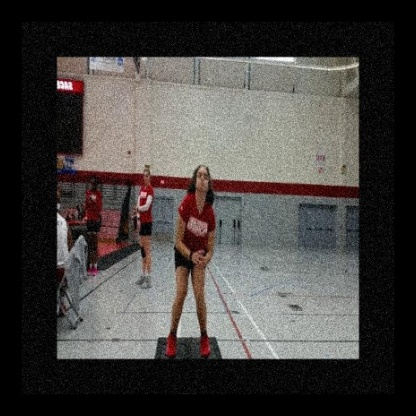lateral_flexion_right: (164, 162, 217, 359)
stance_width_broad: (165, 191, 216, 359)
